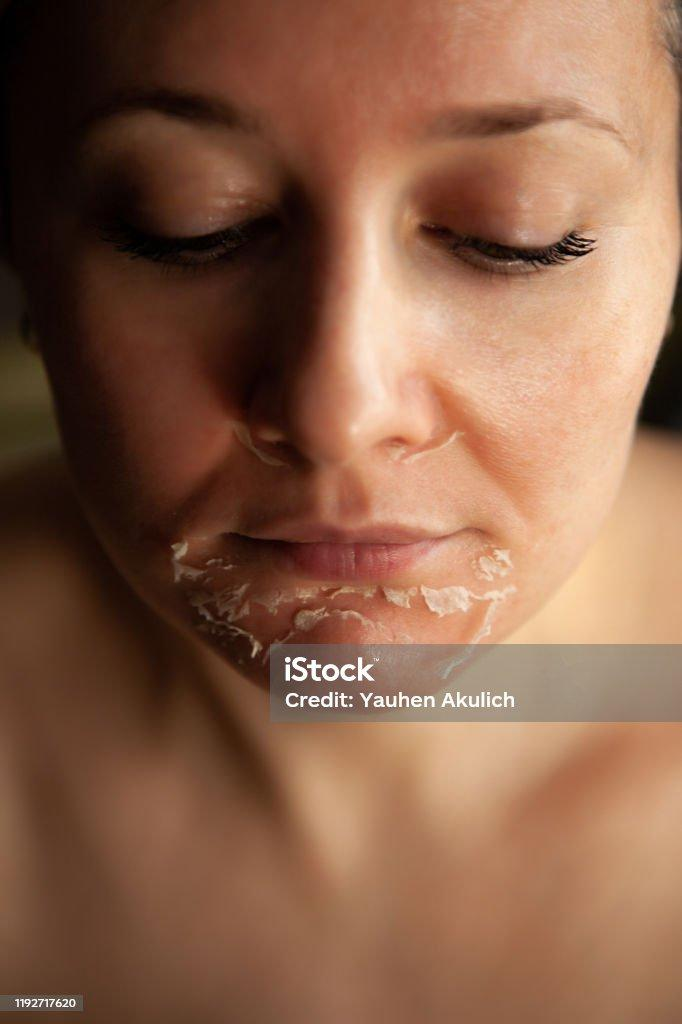Dry-Skin: (161, 514, 575, 702), (158, 408, 317, 522), (368, 408, 493, 515)
